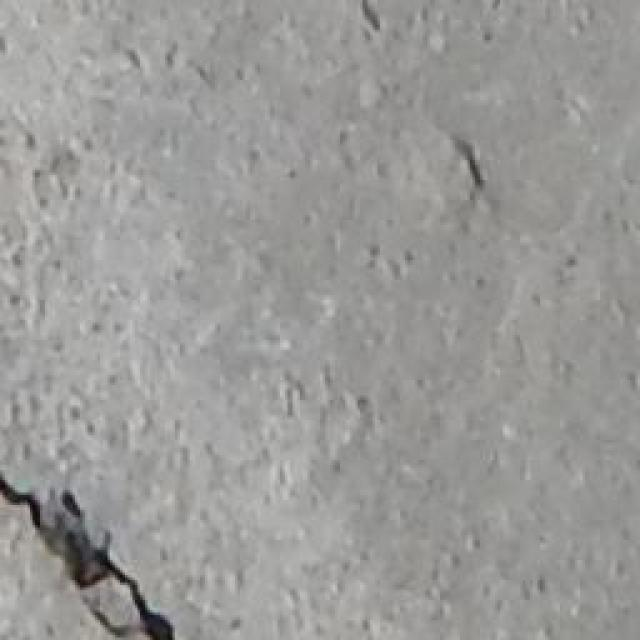concrete-crack: (0, 472, 190, 640), (450, 135, 490, 190)
